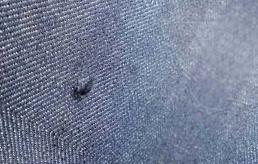knot: (69, 78, 97, 102)
